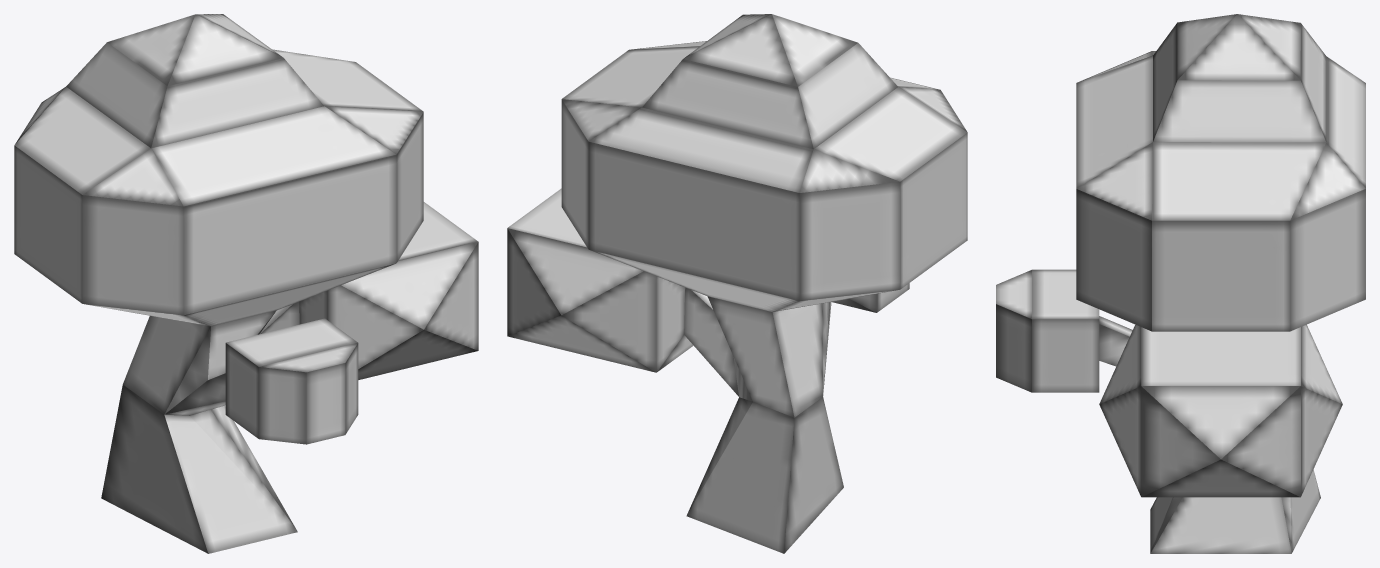
The model's file is Tree-03.fbx.
3 views of the same model, side by side, from view 1: azimuth 30°, elevation 25°; view 2: azimuth 150°, elevation 25°; view 3: azimuth 270°, elevation 25° (orthographic). The views are drawn at different scales.
Visible parts, largest first — view 1: Tree-03; view 2: Tree-03; view 3: Tree-03.
Boxes of the visible parts, left/top/right/bottom form: Tree-03: left=14, top=14, right=478, bottom=553; Tree-03: left=507, top=14, right=967, bottom=553; Tree-03: left=996, top=14, right=1365, bottom=553.
Size of the model in its own units: 0.6683 by 0.75 by 0.4924.
